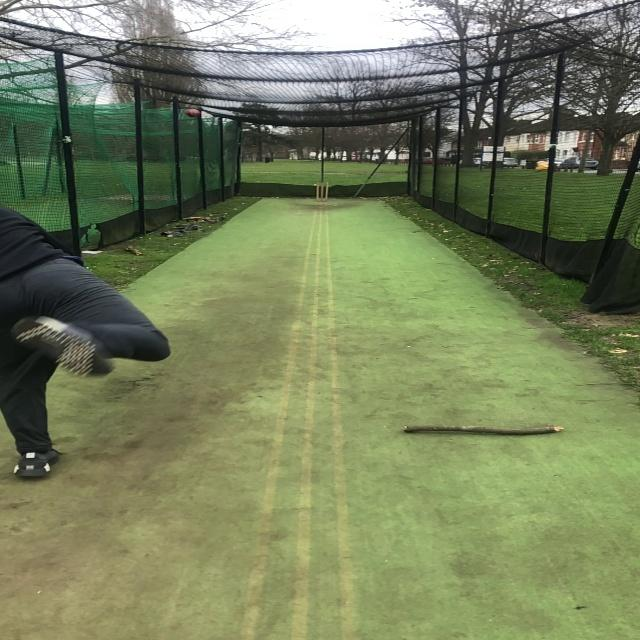ball: (185, 109, 201, 118)
